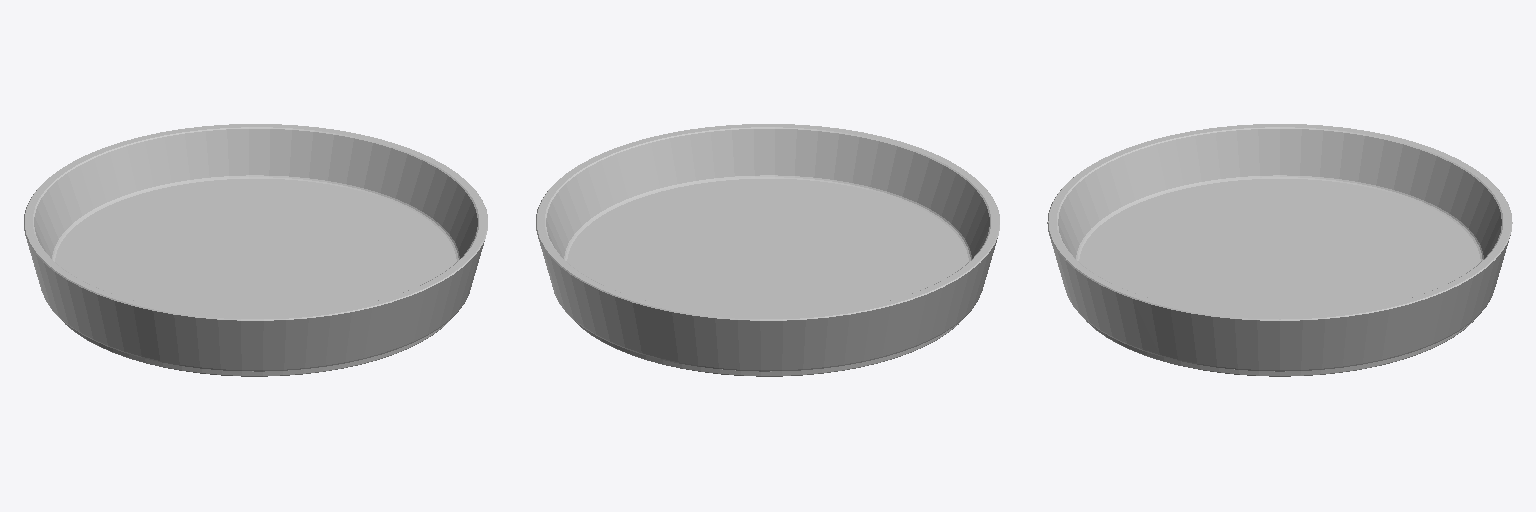
File: Cork_Coaster.obj
3 renders of one model, left to right at view 1: azimuth 30°, elevation 25°; view 2: azimuth 150°, elevation 25°; view 3: azimuth 270°, elevation 25°, orthographic.
Parts seen in each view (by area): view 1: Cork_Coaster; view 2: Cork_Coaster; view 3: Cork_Coaster.
Boxes of the visible parts, x1=… form: Cork_Coaster: x1=24, y1=124, x2=487, y2=376; Cork_Coaster: x1=536, y1=124, x2=999, y2=376; Cork_Coaster: x1=1047, y1=124, x2=1512, y2=376.
Bounding box in the file's own units: 0.0964 × 0.0157 × 0.0964.